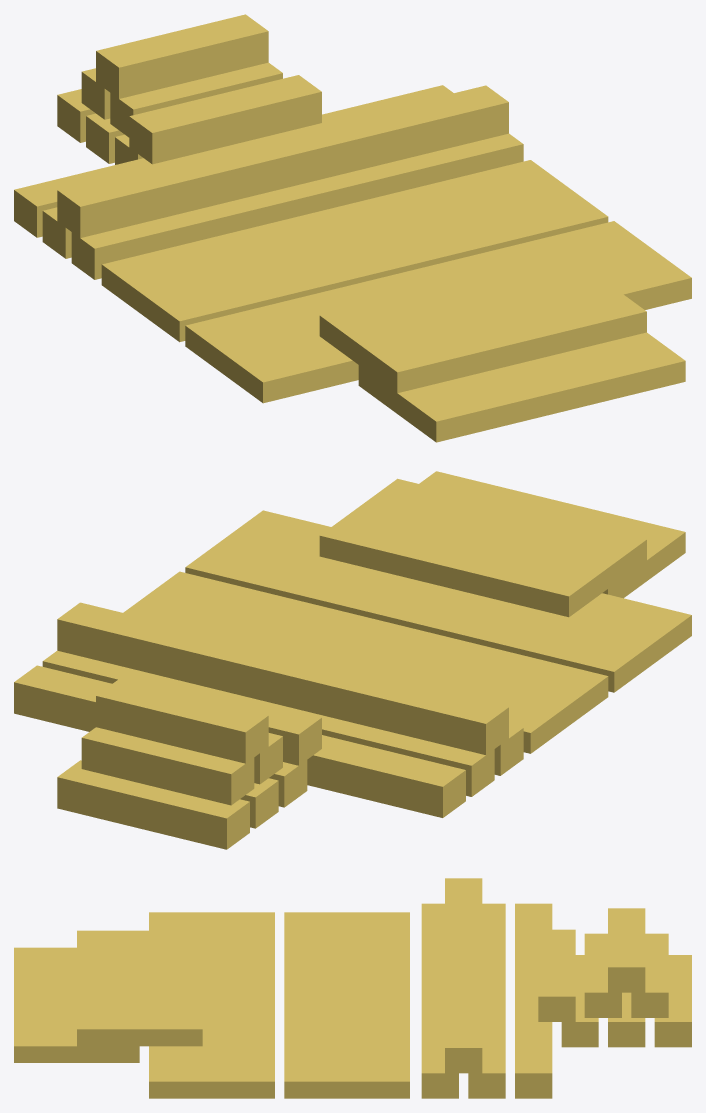
Rendered from chair3.glb.
3 views of the same model, one above another, from view 1: azimuth 30°, elevation 25°; view 2: azimuth 150°, elevation 25°; view 3: azimuth 270°, elevation 25° (orthographic). The views are drawn at different scales.
Parts seen in each view (by area): view 1: beam1.002, beam2.002, pillar2.001, beam1.001, beam2.001, pillar2.002, pillar2.004, pillar3.001, pillar1.002, pillar3.003, pillar2.003, pillar1.003 (+2 smaller); view 2: beam1.001, beam1.002, beam2.002, pillar2.001, pillar1.002, pillar3.001, pillar2.003, pillar3.002, pillar1.001, beam2.001, pillar2.004, pillar1.003 (+3 smaller); view 3: beam1.002, beam1.001, beam2.002, beam2.001, pillar2.001, pillar1.002, pillar1.001, pillar2.002, pillar2.004, pillar3.001, pillar2.003, pillar3.002 (+3 smaller).
Part boxes in pixels (bbox=[...]): beam1.002: bbox=[101, 160, 608, 342]; beam2.002: bbox=[319, 254, 646, 393]; pillar2.001: bbox=[57, 85, 508, 238]; beam1.001: bbox=[185, 221, 691, 403]; beam2.001: bbox=[358, 332, 685, 442]; pillar2.002: bbox=[71, 133, 523, 279]; pillar2.004: bbox=[129, 75, 321, 164]; pillar3.001: bbox=[96, 14, 268, 98]; pillar1.002: bbox=[14, 85, 453, 237]; pillar3.003: bbox=[110, 62, 282, 137]; pillar2.003: bbox=[57, 89, 95, 142]; pillar1.003: bbox=[86, 113, 124, 163]; beam1.001: bbox=[185, 510, 691, 692]; beam1.002: bbox=[123, 571, 608, 753]; beam2.002: bbox=[319, 478, 646, 617]; pillar2.001: bbox=[57, 602, 508, 754]; pillar1.002: bbox=[14, 665, 465, 817]; pillar3.001: bbox=[96, 679, 268, 763]; pillar2.003: bbox=[57, 760, 249, 849]; pillar3.002: bbox=[81, 727, 254, 805]; pillar1.001: bbox=[42, 650, 494, 796]; beam2.001: bbox=[419, 471, 685, 598]; pillar2.004: bbox=[141, 676, 321, 765]; pillar1.003: bbox=[240, 778, 278, 828]; beam1.002: bbox=[284, 912, 409, 1098]; beam1.001: bbox=[149, 912, 274, 1098]; beam2.002: bbox=[77, 930, 202, 1046]; beam2.001: bbox=[14, 947, 139, 1062]; pillar2.001: bbox=[445, 878, 482, 1073]; pillar1.002: bbox=[515, 903, 552, 1098]; pillar1.001: bbox=[468, 903, 505, 1098]; pillar2.002: bbox=[421, 903, 458, 1098]; pillar2.004: bbox=[538, 929, 575, 1021]; pillar3.001: bbox=[608, 908, 645, 992]; pillar2.003: bbox=[654, 955, 691, 1047]; pillar3.002: bbox=[631, 933, 668, 1017].
Bounding box in the file's own units: 0.43 × 0.09 × 0.7275.
